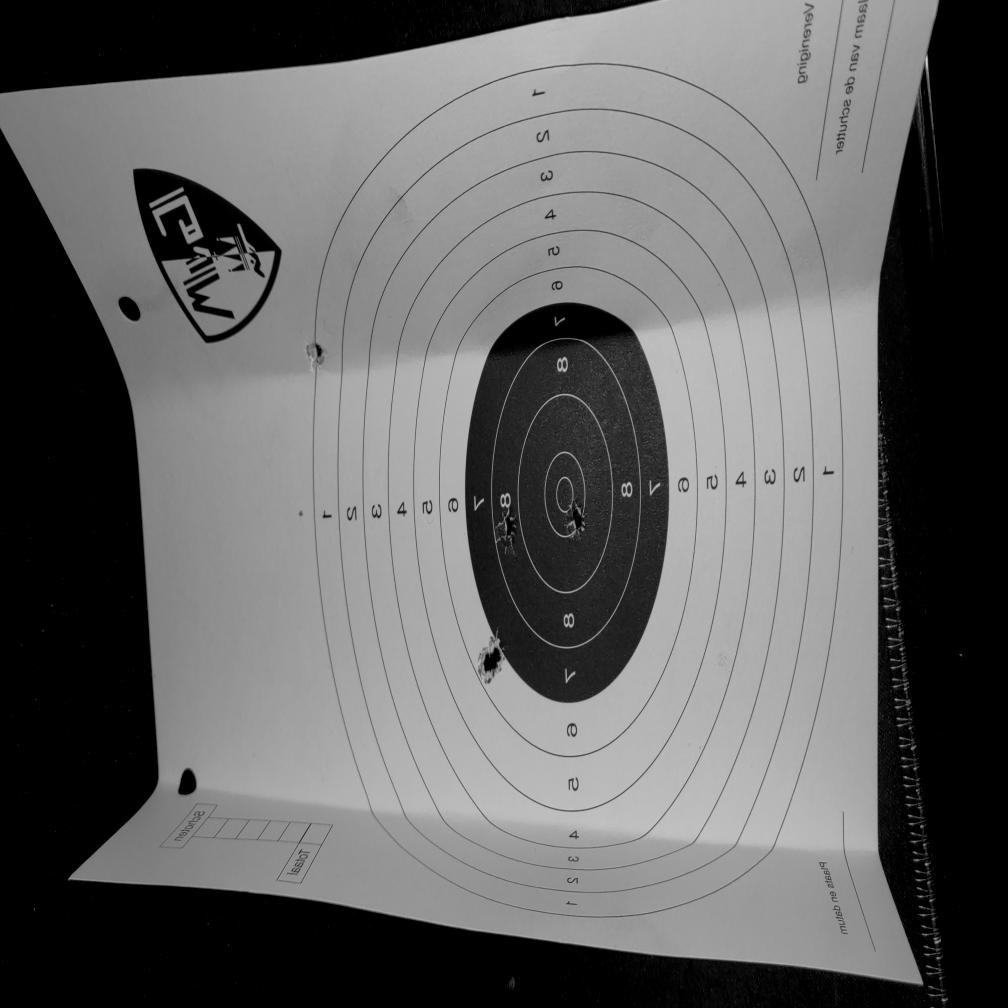1: (306, 337, 328, 371)
10: (566, 493, 586, 544)
6: (476, 642, 498, 686)
7: (488, 634, 505, 672)
8: (496, 506, 518, 557)
Target: (310, 57, 844, 917)
black_contour: (464, 302, 670, 704)
